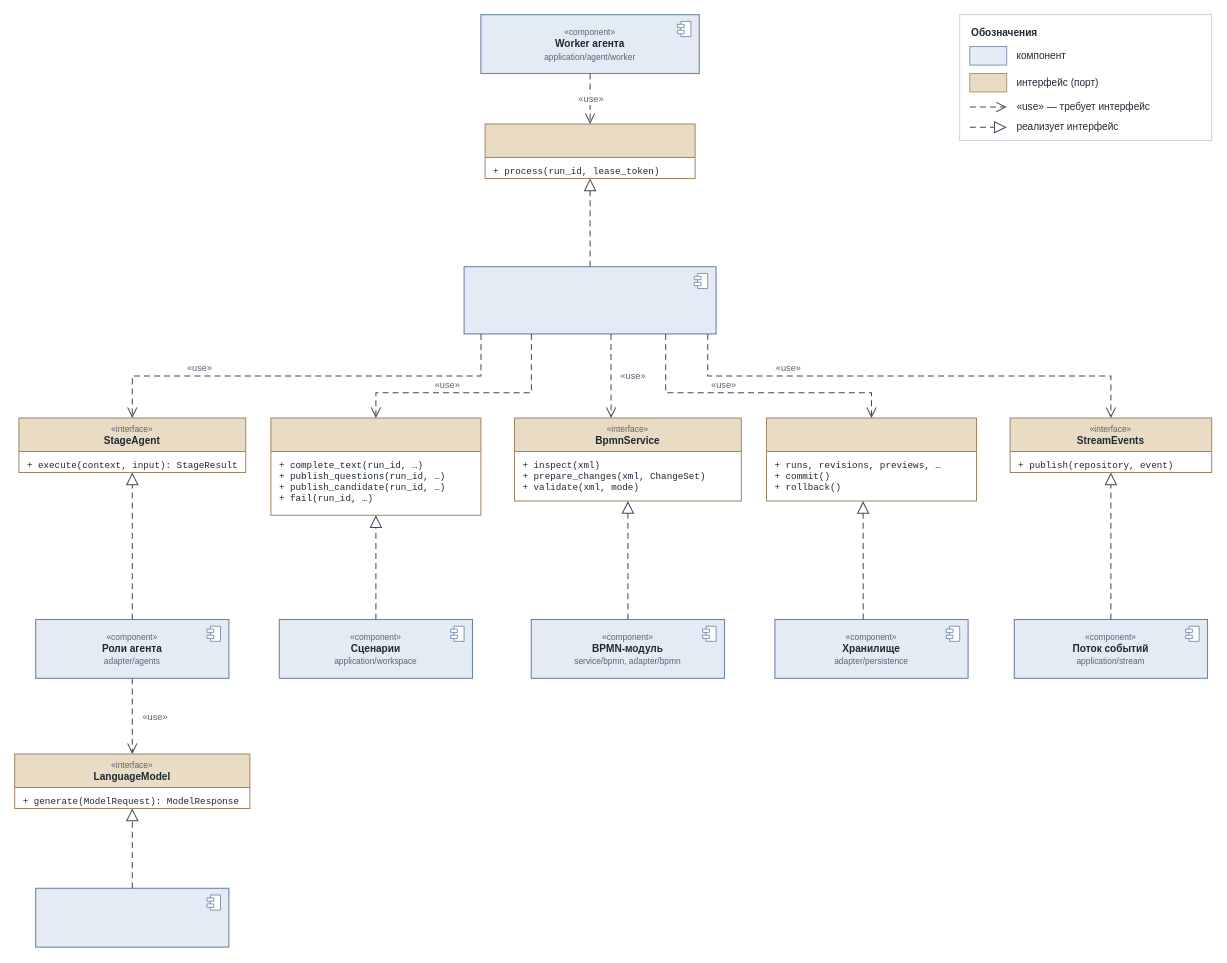
The diagram is 1227 pixels wide and 963 high, and some of its shapes have lost their labels. Here are the shapes that lost their labels. From the top down, the box of each, then its label:
(484, 123, 695, 179): «interface» RunProcessor
(463, 266, 716, 334): «component» Runner агента application/agent/runner
(270, 417, 481, 515): «interface» RunCompletion
(766, 417, 977, 501): «interface» UnitOfWork
(35, 887, 229, 947): «component» Клиент модели adapter/llm (OpenAI, Claude SDK)
